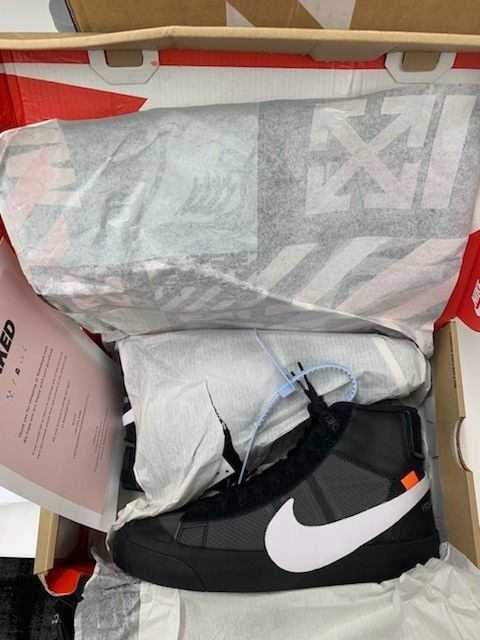Nike Blazer Grim Reaper: (100, 379, 459, 605)
